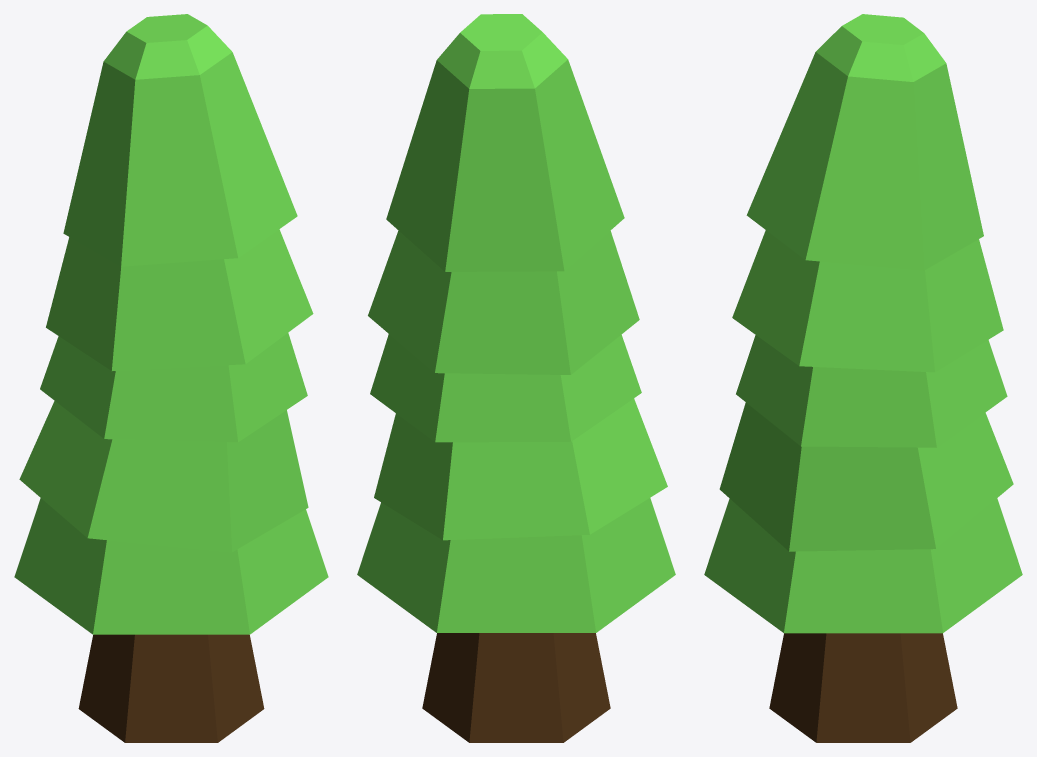
File: Tree_Two.fbx
3 renders of one model, left to right at view 1: azimuth 30°, elevation 25°; view 2: azimuth 150°, elevation 25°; view 3: azimuth 270°, elevation 25°, orthographic.
Visible parts, largest first — view 1: Cylinder.005, Cylinder.002, Cylinder.001, Cylinder.004, Cylinder.003, Cylinder; view 2: Cylinder.005, Cylinder.001, Cylinder.002, Cylinder.004, Cylinder, Cylinder.003; view 3: Cylinder.005, Cylinder.002, Cylinder.004, Cylinder.001, Cylinder.003, Cylinder.
Part boxes in pixels (x1=…): Cylinder.005: x1=63, y1=14, x2=297, y2=266; Cylinder.002: x1=19, y1=401, x2=308, y2=552; Cylinder.001: x1=14, y1=498, x2=328, y2=634; Cylinder.004: x1=46, y1=229, x2=313, y2=370; Cylinder.003: x1=40, y1=333, x2=307, y2=442; Cylinder: x1=78, y1=634, x2=264, y2=742; Cylinder.005: x1=386, y1=14, x2=624, y2=271; Cylinder.001: x1=357, y1=498, x2=675, y2=632; Cylinder.002: x1=374, y1=398, x2=667, y2=540; Cylinder.004: x1=368, y1=230, x2=639, y2=374; Cylinder: x1=422, y1=633, x2=610, y2=742; Cylinder.003: x1=370, y1=334, x2=641, y2=442; Cylinder.005: x1=746, y1=14, x2=983, y2=270; Cylinder.002: x1=719, y1=402, x2=1013, y2=551; Cylinder.004: x1=732, y1=230, x2=1003, y2=372; Cylinder.001: x1=704, y1=498, x2=1022, y2=633; Cylinder.003: x1=736, y1=335, x2=1007, y2=447; Cylinder: x1=769, y1=633, x2=957, y2=742.
Size of the model in its own units: 293 by 803 by 338.
